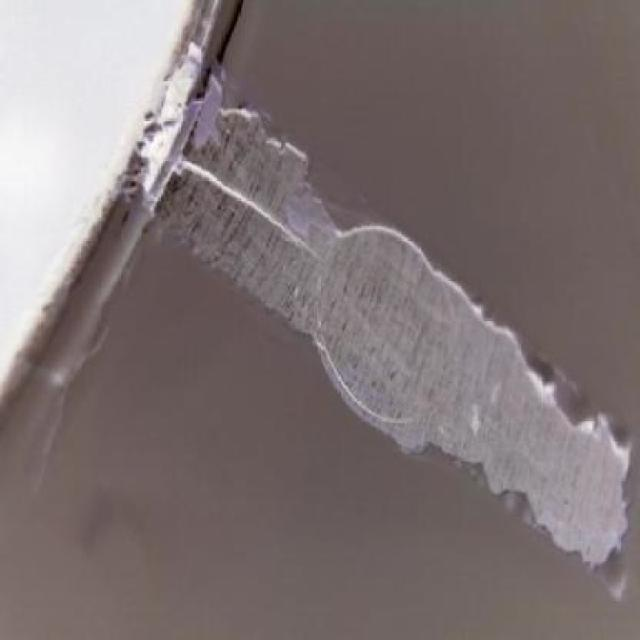crack: (259, 205, 322, 259), (179, 160, 253, 200)
